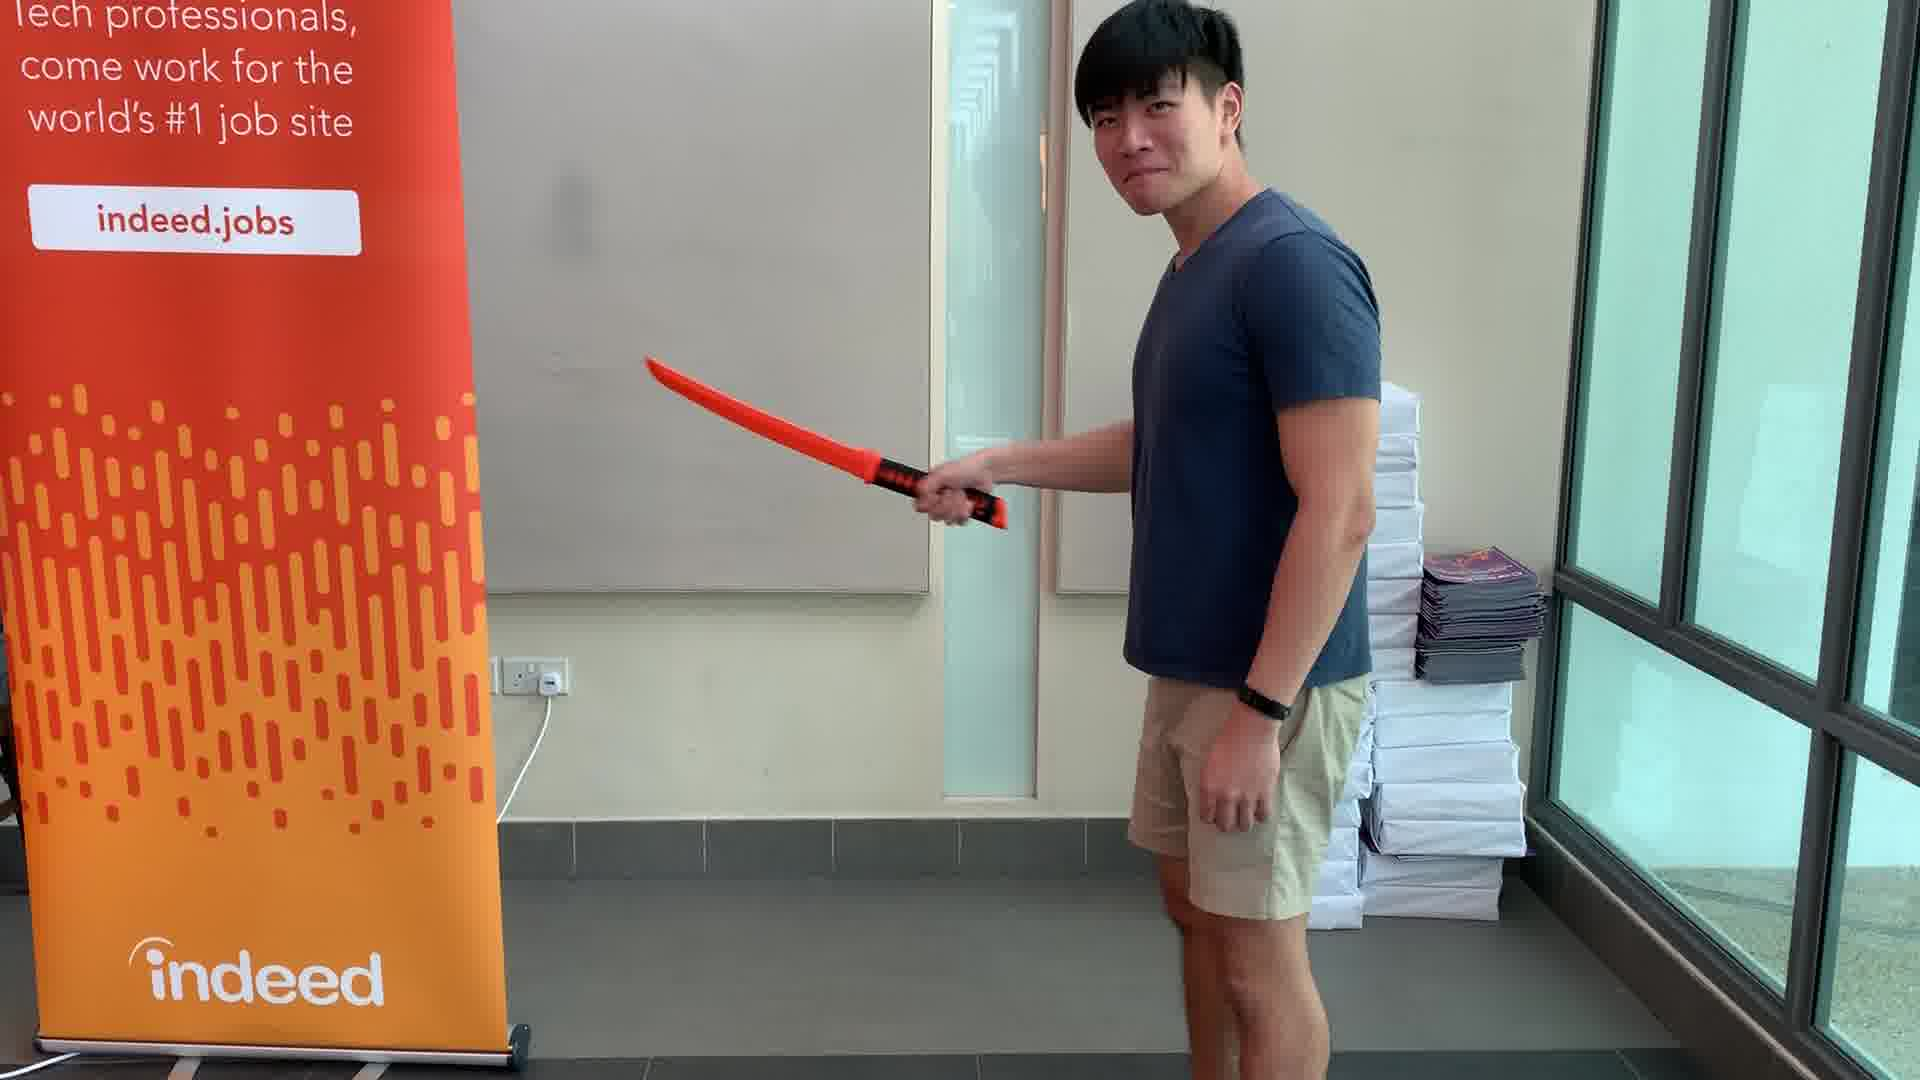knife: (629, 348, 1015, 533)
